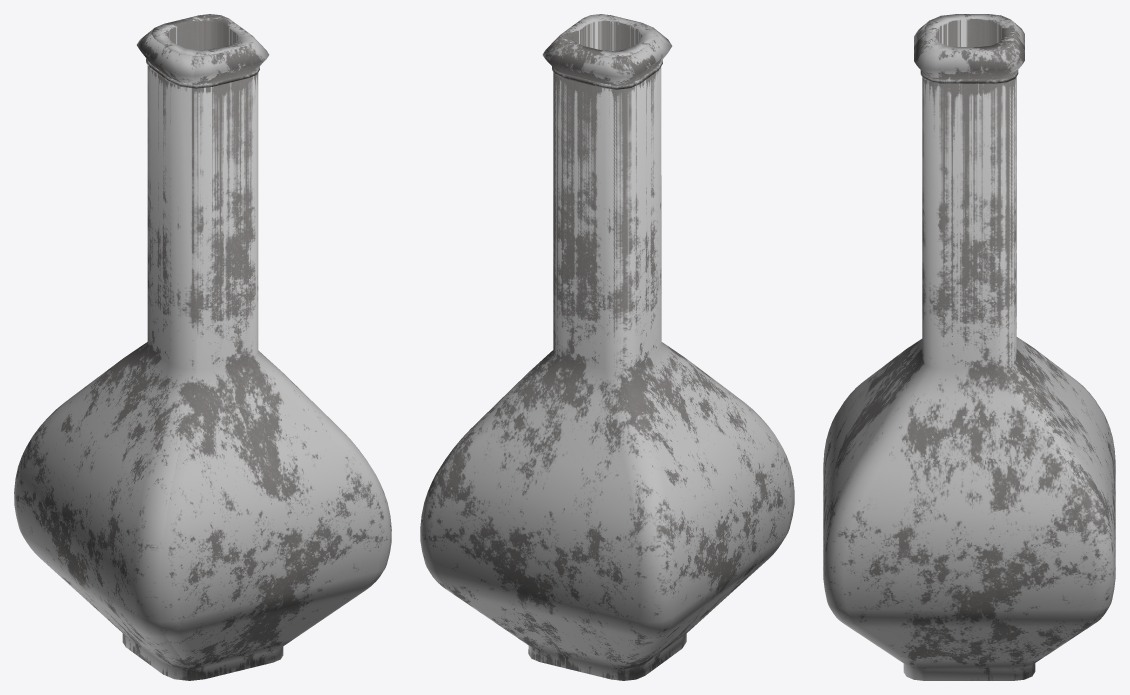
The model's file is probowka_2.glb.
3 views of the same model, side by side, from view 1: azimuth 30°, elevation 25°; view 2: azimuth 150°, elevation 25°; view 3: azimuth 270°, elevation 25° (orthographic).
Parts seen in each view (by area): view 1: Cube; view 2: Cube; view 3: Cube.
Part boxes in pixels (bbox=[...]): Cube: bbox=[14, 14, 391, 680]; Cube: bbox=[420, 14, 794, 680]; Cube: bbox=[823, 14, 1115, 680].
Bounding box in the file's own units: 0.5124 × 1.2 × 0.5124.
Materials: 1 (1 with a texture image).
